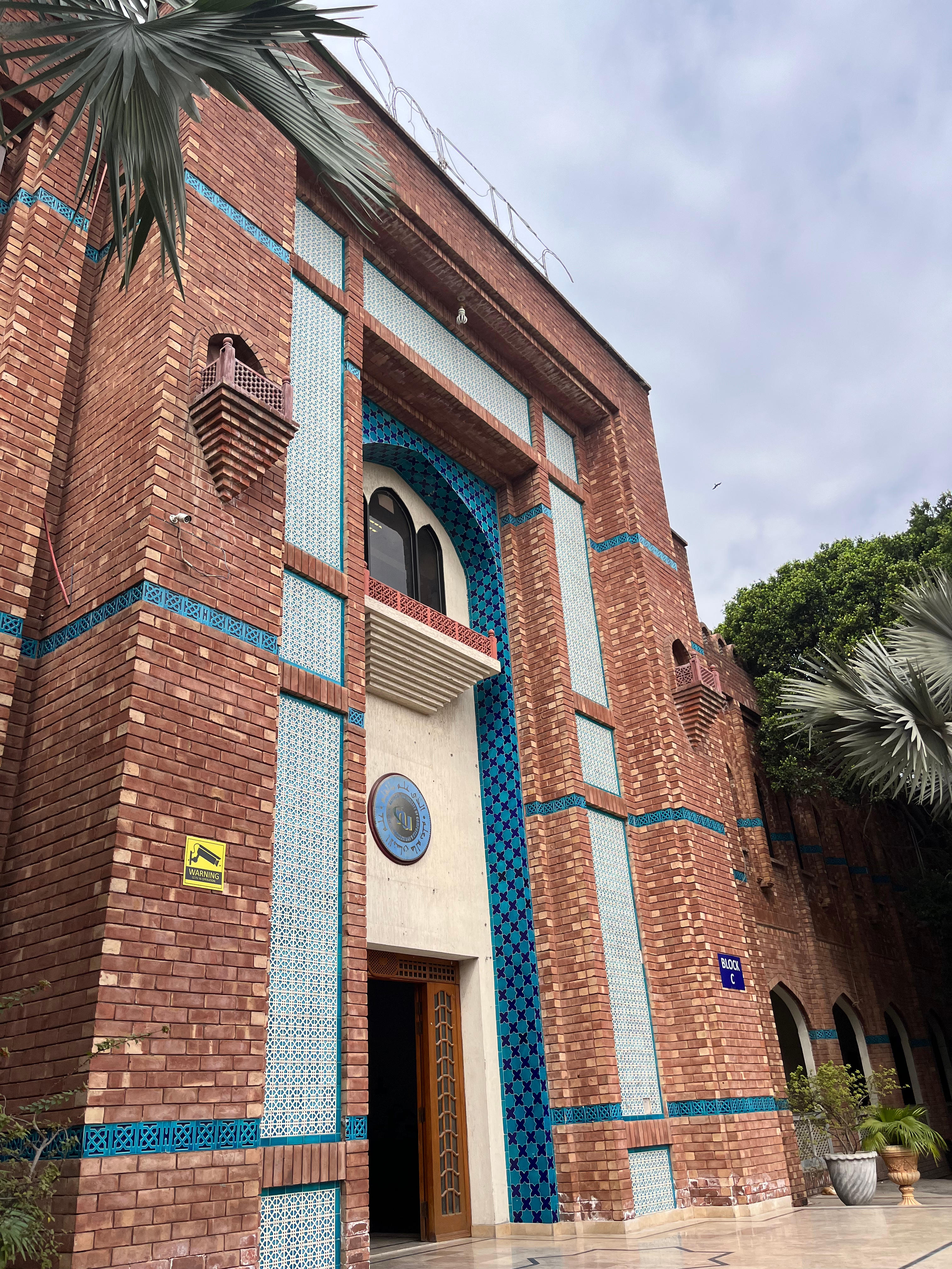Block C: (2, 5, 952, 1243)
